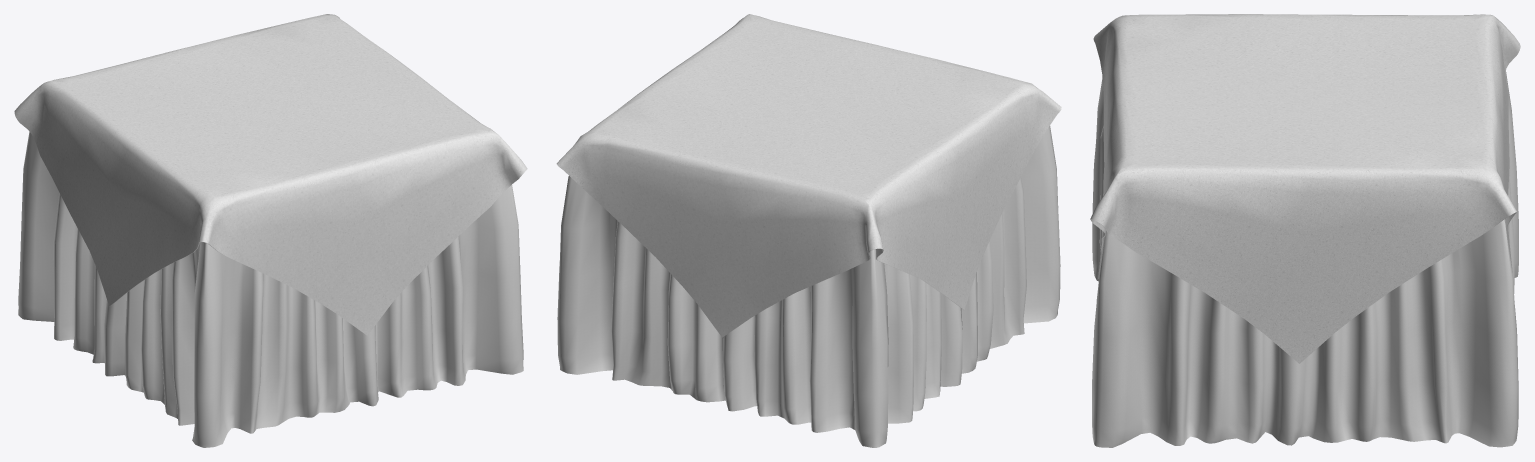
The model's file is EventTable02Cloth01.FBX.
3 views of the same model, side by side, from view 1: azimuth 30°, elevation 25°; view 2: azimuth 150°, elevation 25°; view 3: azimuth 270°, elevation 25° (orthographic). The views are drawn at different scales.
Visible parts, largest first — view 1: EventTable02Cloth01; view 2: EventTable02Cloth01; view 3: EventTable02Cloth01.
Boxes of the visible parts, x1,y1,x2,y2 form: EventTable02Cloth01: (14,14,527,447); EventTable02Cloth01: (556,14,1061,447); EventTable02Cloth01: (1090,14,1520,447).
Size of what is drawn, in the model's own units: 1.32 by 0.9025 by 1.32.
